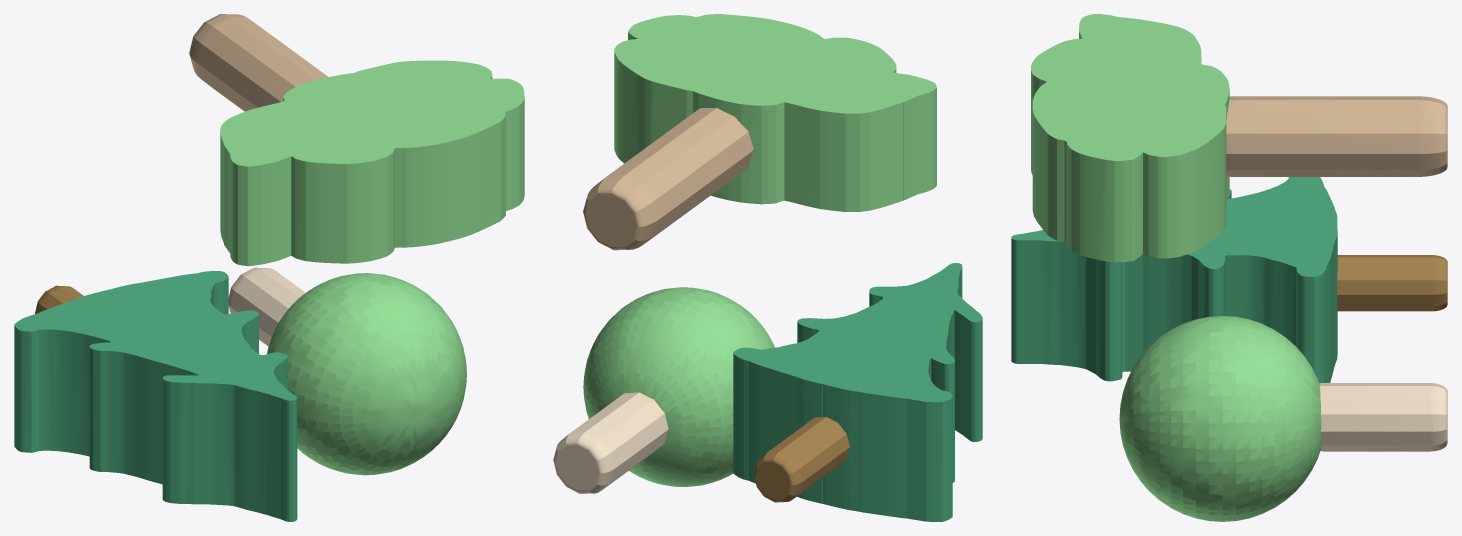
File: scena1[1].gltf
3 views of the same model, side by side, from view 1: azimuth 30°, elevation 25°; view 2: azimuth 150°, elevation 25°; view 3: azimuth 270°, elevation 25° (orthographic). The views are drawn at different scales.
Parts seen in each view (by area): view 1: group_0_4634441, group_0_1206582, group_0_11107152, group_0_14860437, group_0_6306067; view 2: group_0_4634441, group_0_1206582, group_0_11107152, group_0_14860437, group_0_6306067; view 3: group_0_4634441, group_0_1206582, group_0_11107152, group_0_14860437, group_0_6306067.
Part boxes in pixels (x1,y1,x2,y2): group_0_4634441: [220, 60, 524, 475]; group_0_1206582: [14, 271, 297, 521]; group_0_11107152: [189, 14, 327, 111]; group_0_14860437: [228, 267, 305, 346]; group_0_6306067: [35, 285, 83, 313]; group_0_4634441: [583, 14, 936, 486]; group_0_1206582: [733, 263, 982, 521]; group_0_11107152: [583, 108, 753, 250]; group_0_14860437: [553, 392, 668, 493]; group_0_6306067: [754, 417, 849, 502]; group_0_4634441: [1031, 14, 1321, 521]; group_0_1206582: [1011, 177, 1337, 383]; group_0_11107152: [1226, 96, 1447, 176]; group_0_14860437: [1319, 383, 1447, 451]; group_0_6306067: [1337, 255, 1447, 311].
Size of the model in its own units: 2.47 by 2.26 by 2.22.
